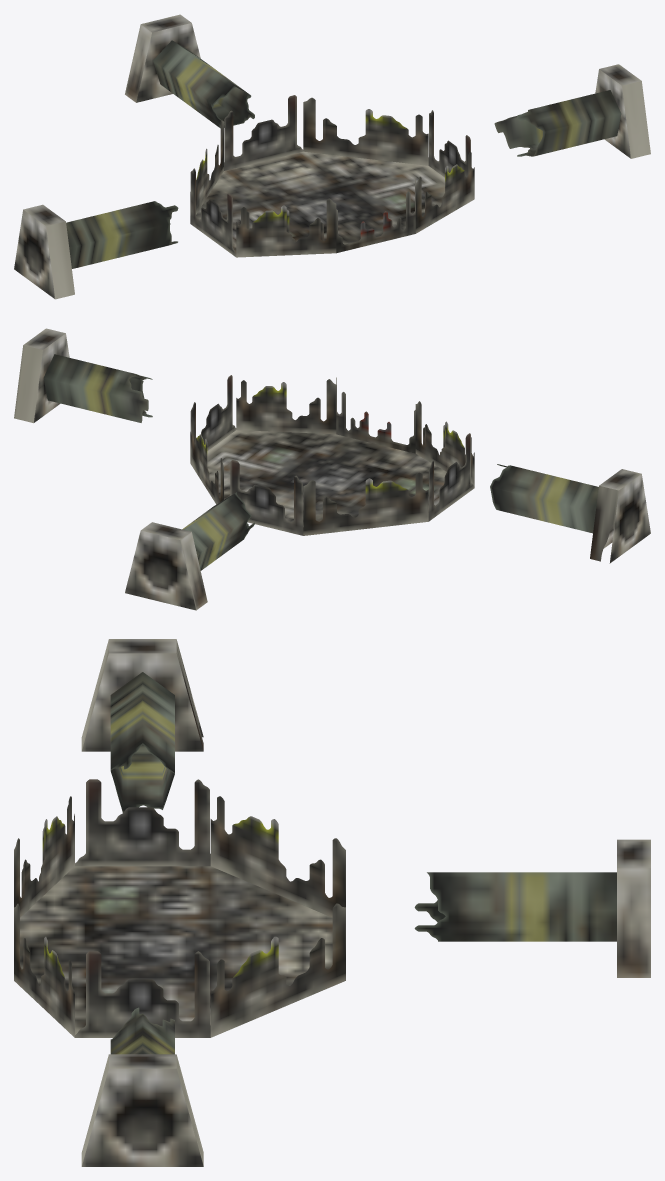
The model's file is threewaypipe_dam.glb.
3 renders of one model, top to bottom at view 1: azimuth 30°, elevation 25°; view 2: azimuth 150°, elevation 25°; view 3: azimuth 270°, elevation 25°, orthographic. The views are drawn at different scales.
Parts seen in each view (by area): view 1: Object01; view 2: Object01; view 3: Object01.
Part boxes in pixels (<box>): Object01: <box>14,14,650,299</box>; Object01: <box>14,328,650,610</box>; Object01: <box>14,639,650,1166</box>.
Size of the model in its own units: 25.56 by 2.73 by 16.02.
Materials: 1 (1 with a texture image).
